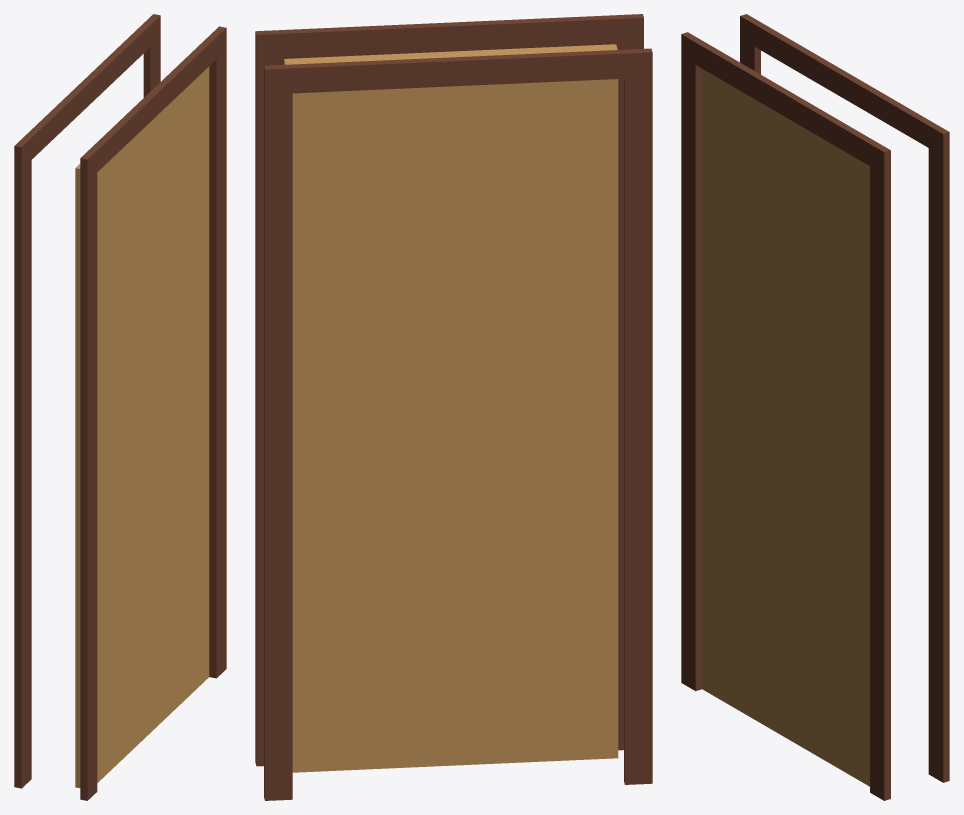
File: FoyerProjLights_0Lv6S5VzT50OSp5y8gcICK-Level 1_IfcDoor.dae
3 renders of one model, left to right at view 1: azimuth 30°, elevation 25°; view 2: azimuth 150°, elevation 25°; view 3: azimuth 270°, elevation 25°, orthographic. The views are drawn at different scales.
Parts seen in each view (by area): view 1: 0TiuE_WzrAlhoOkZzf$IeA; view 2: 0TiuE_WzrAlhoOkZzf$IeA; view 3: 0TiuE_WzrAlhoOkZzf$IeA.
Part boxes in pixels (<box>): 0TiuE_WzrAlhoOkZzf$IeA: <box>14,14,226,800</box>; 0TiuE_WzrAlhoOkZzf$IeA: <box>255,14,652,800</box>; 0TiuE_WzrAlhoOkZzf$IeA: <box>681,14,949,800</box>.
Size of the model in its own units: 1.01 by 0.8294 by 2.21.
